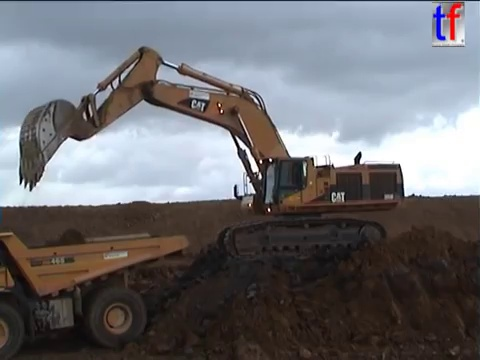excavator: (16, 43, 407, 262)
truck: (1, 229, 192, 360)
